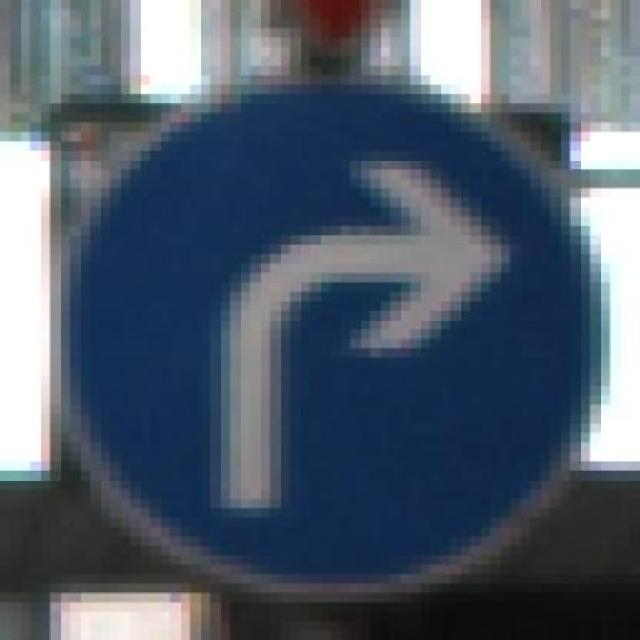Turn right ahead: (46, 53, 606, 609)
